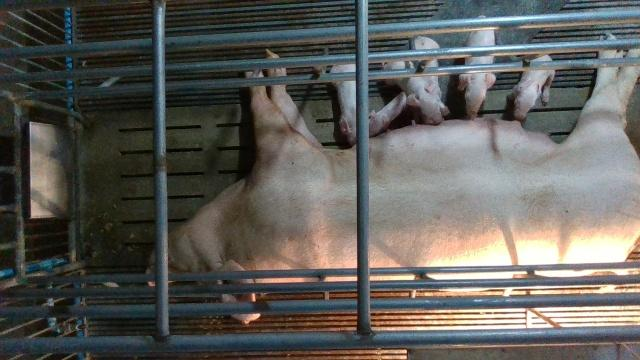piglet: (380, 57, 450, 125), (459, 13, 498, 118), (508, 54, 556, 120), (405, 36, 442, 98), (330, 63, 355, 144), (368, 91, 406, 138)
sow-sleep-lactate: (145, 50, 640, 324)
